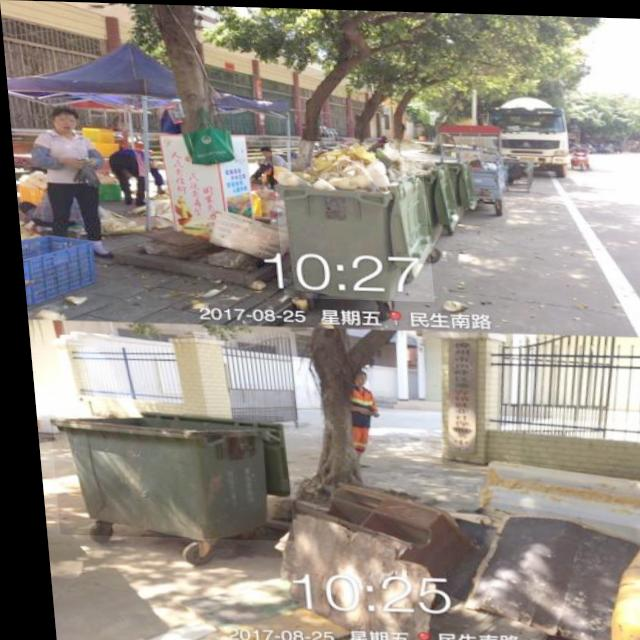garbage_bin: (42, 409, 284, 540)
overflow: (269, 138, 430, 299)
